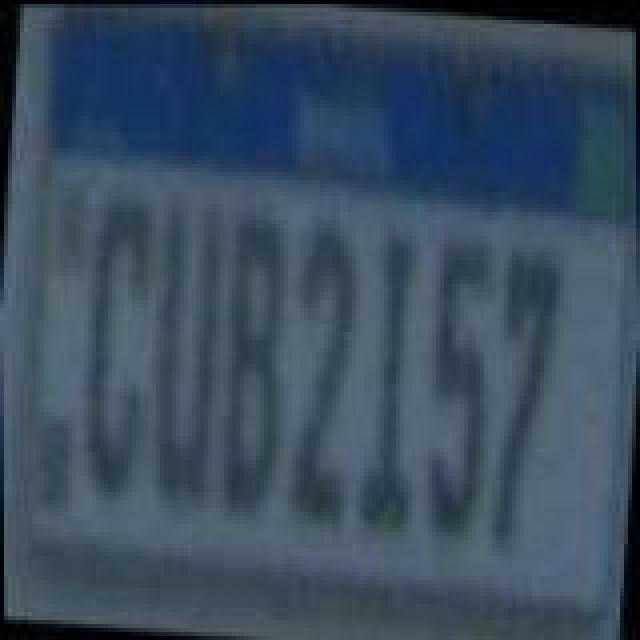2: (280, 220, 376, 540)
5: (412, 230, 504, 546)
7: (480, 240, 572, 556)
B: (208, 202, 304, 526)
C: (72, 192, 168, 508)
I: (350, 228, 438, 544)
U: (136, 188, 232, 516)
